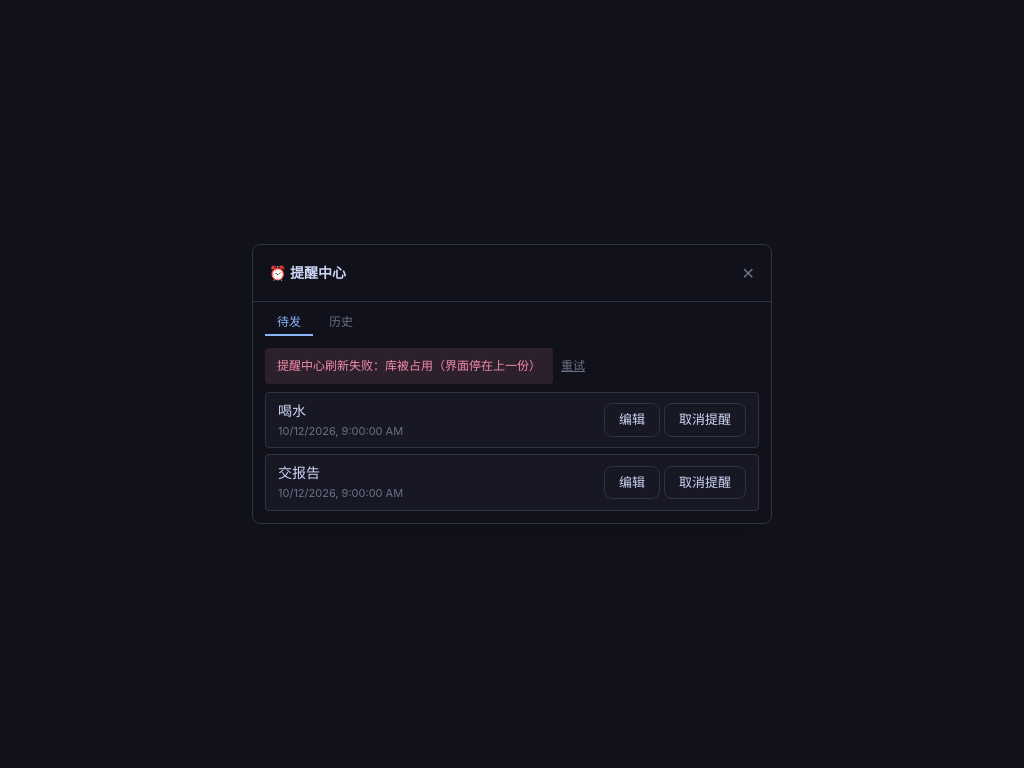
Scenario: 提醒中心：清单已经在屏上、那一发又没读到时，原因必须有出口 › R3 按重试真再发一发，成功后那句当场收回
Click the button with test id "reminders-list-stale-retry". click: [573, 366]
box: [561, 358, 585, 374]
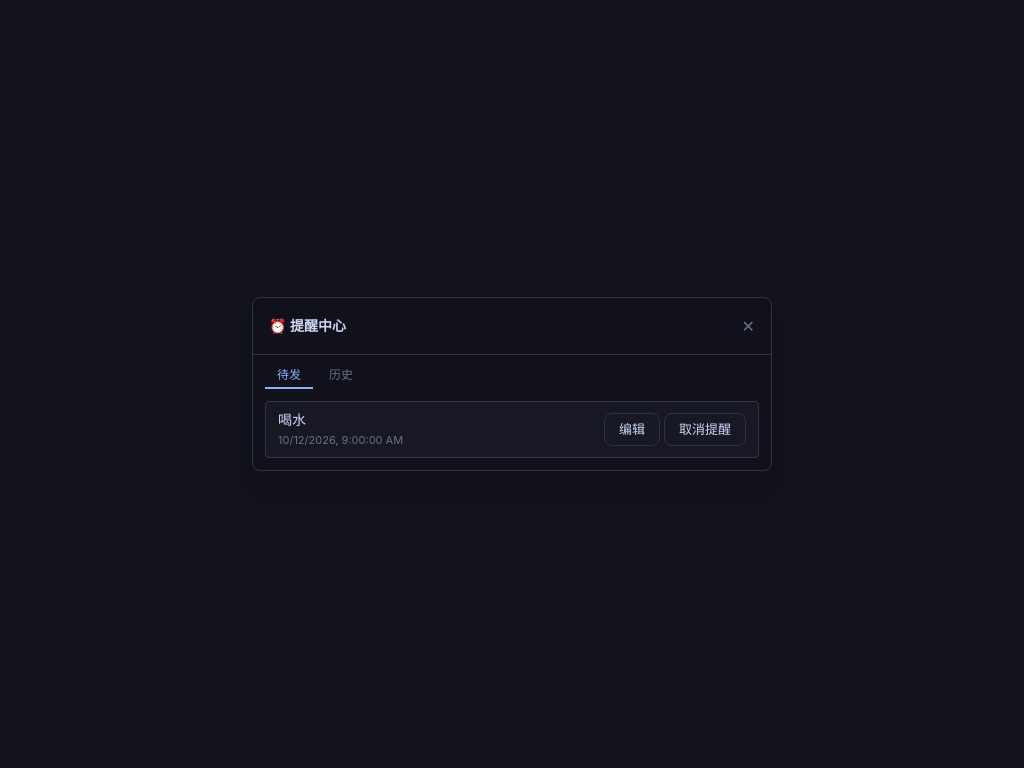
Expected: the text "喝水" is shown, [278, 411, 306, 428]
Expected: the text "交报告" is gone
